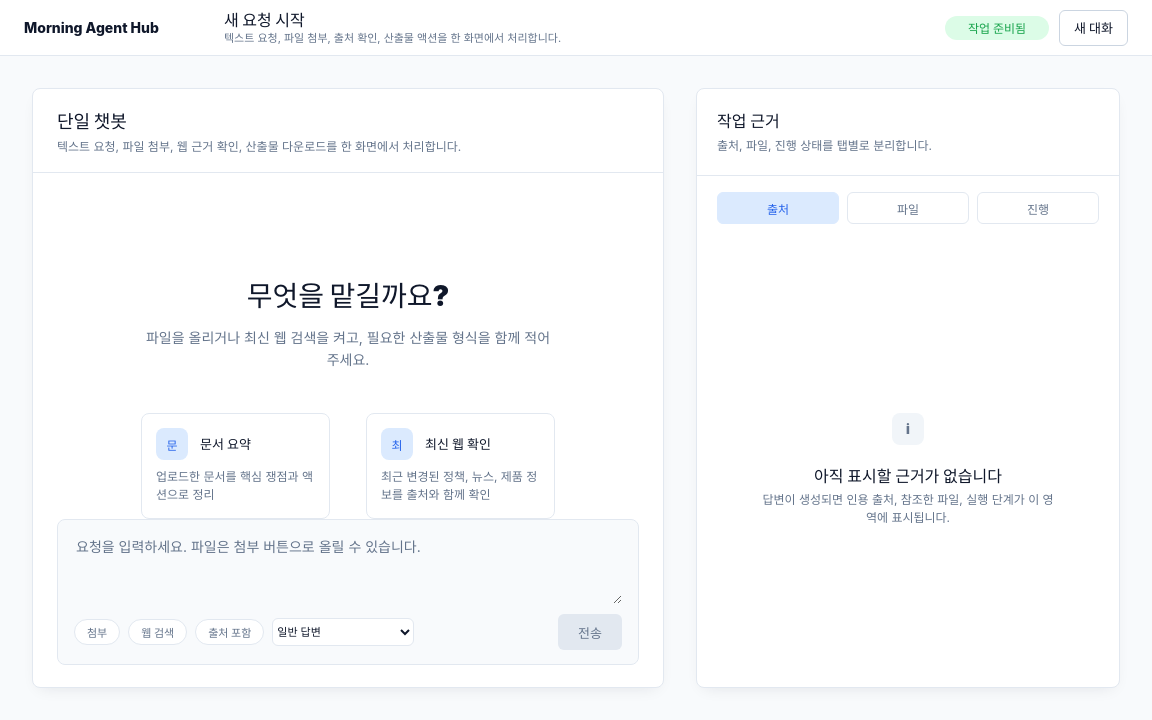
Test: ChatShell › loads drive files and handles file management actions
Click the button "파일": (908,208) x1=847 y1=192 x2=969 y2=224
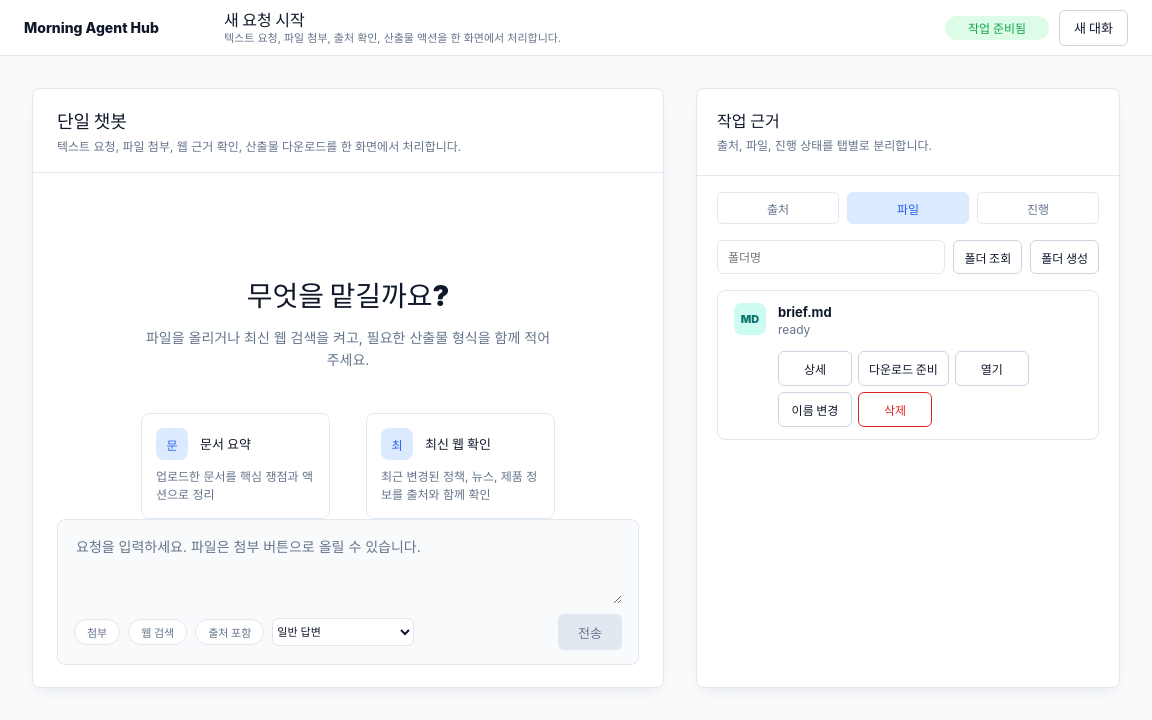
Result: the text "brief.md" is shown at x1=778 y1=304 x2=832 y2=320
Click the button with test id "file-info-button": (815,368) x1=778 y1=351 x2=852 y2=386
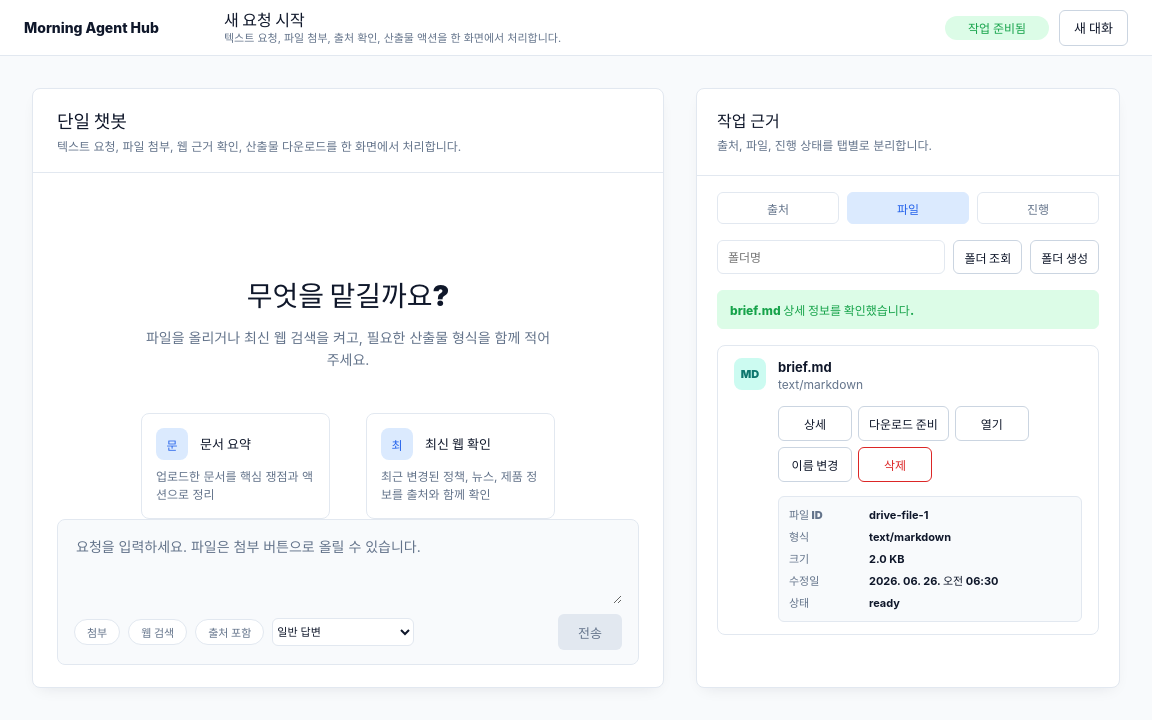
Result: the text "brief.md 상세 정보를 확인했습니다." is shown at x1=717 y1=290 x2=1099 y2=329
Result: the element with test id "file-metadata" shows "text/markdown" at x1=869 y1=530 x2=951 y2=544
Result: the element with test id "file-metadata" shows "2.0 KB" at x1=869 y1=552 x2=904 y2=566
Click the button with test id "file-download-button": (903,424) x1=858 y1=406 x2=949 y2=441
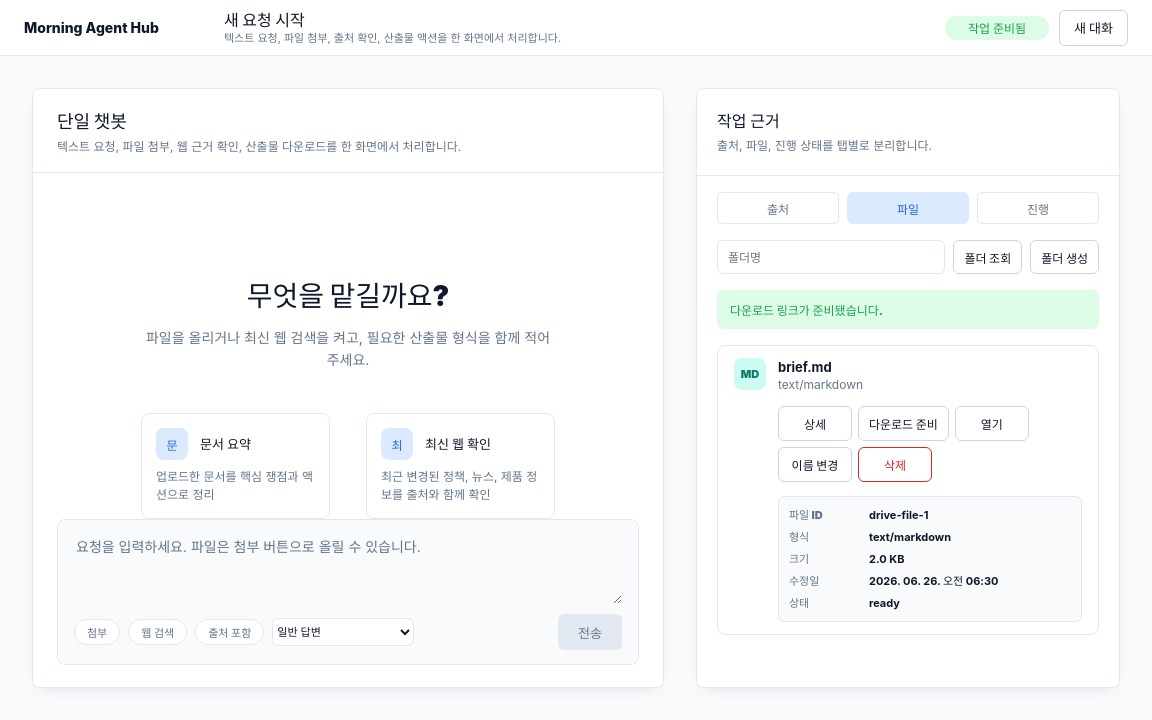
Result: the text "다운로드 링크가 준비됐습니다." is shown at x1=717 y1=290 x2=1099 y2=329
